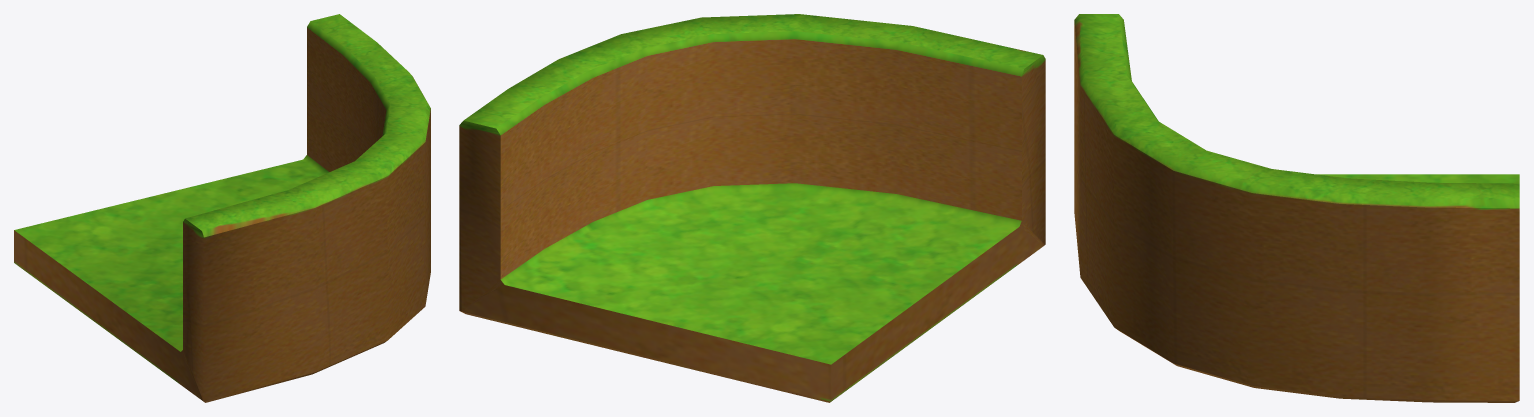
File: CornerNoPostWall.fbx
The picture shows the model from 3 angles, left to right: view 1: azimuth 30°, elevation 25°; view 2: azimuth 150°, elevation 25°; view 3: azimuth 270°, elevation 25°; orthographic projection. The views are drawn at different scales.
Parts seen in each view (by area): view 1: CornerNoPostWall; view 2: CornerNoPostWall; view 3: CornerNoPostWall.
Boxes of the visible parts, x1,y1,x2,y2 form: CornerNoPostWall: [14, 14, 430, 402]; CornerNoPostWall: [459, 14, 1045, 402]; CornerNoPostWall: [1074, 14, 1519, 402].
Bounding box in the file's own units: 449 × 449 × 226.
